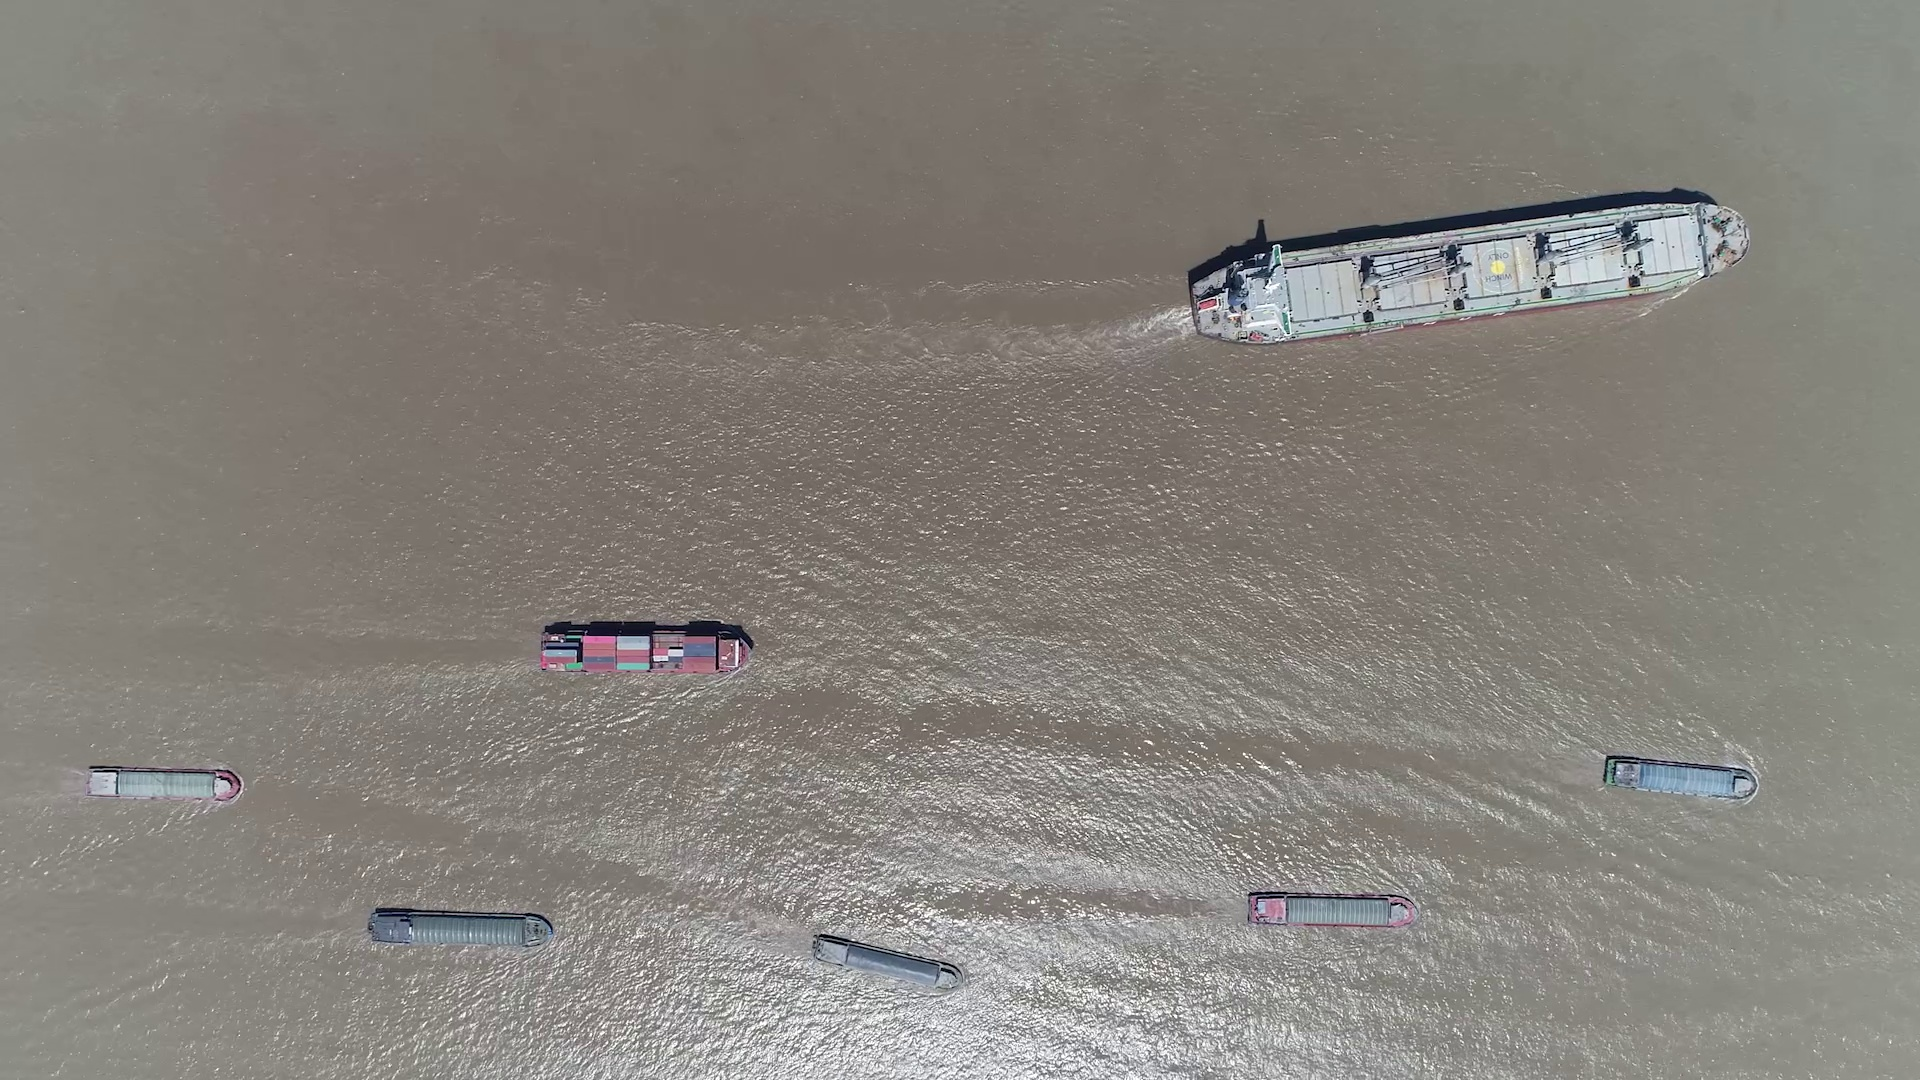ship: (1184, 200, 1750, 343), (538, 624, 752, 675), (811, 934, 963, 990), (369, 909, 551, 948), (1602, 754, 1758, 800), (1247, 891, 1416, 928), (82, 766, 241, 803)
